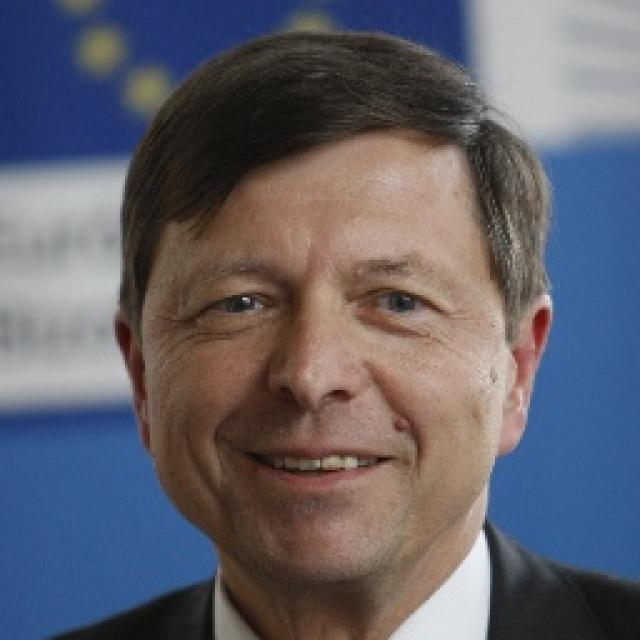earlobe: (494, 294, 553, 456), (113, 310, 151, 452)
